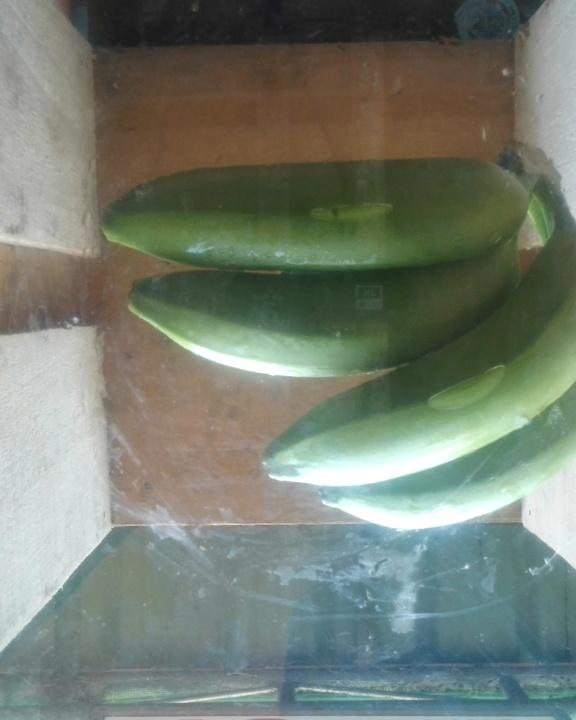SPOT: (99, 127, 576, 548)
